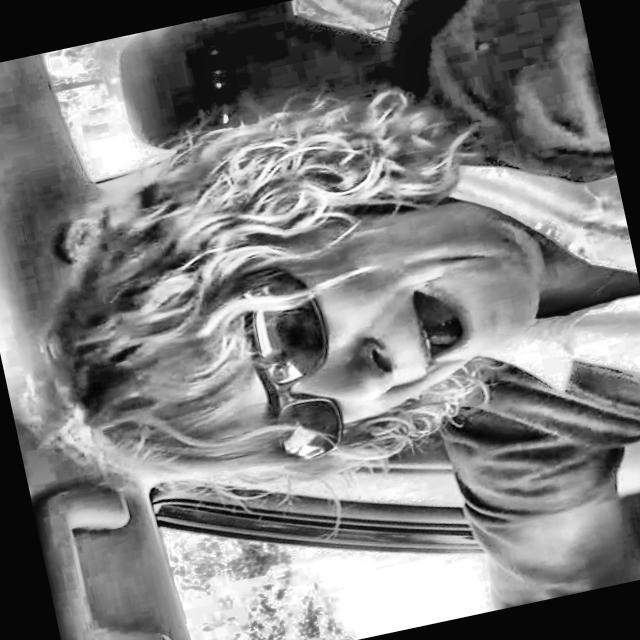open_mouth: (384, 269, 488, 394)
